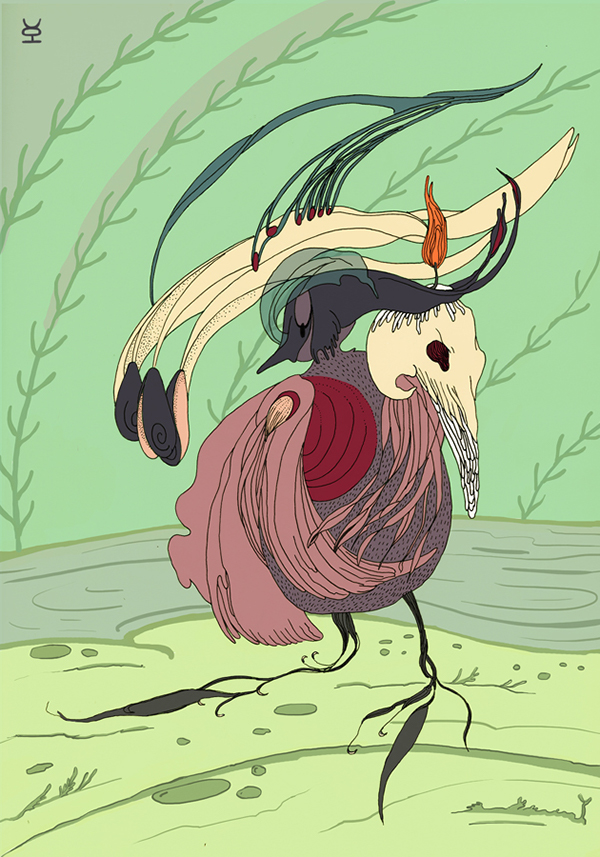bird: (127, 49, 580, 699)
